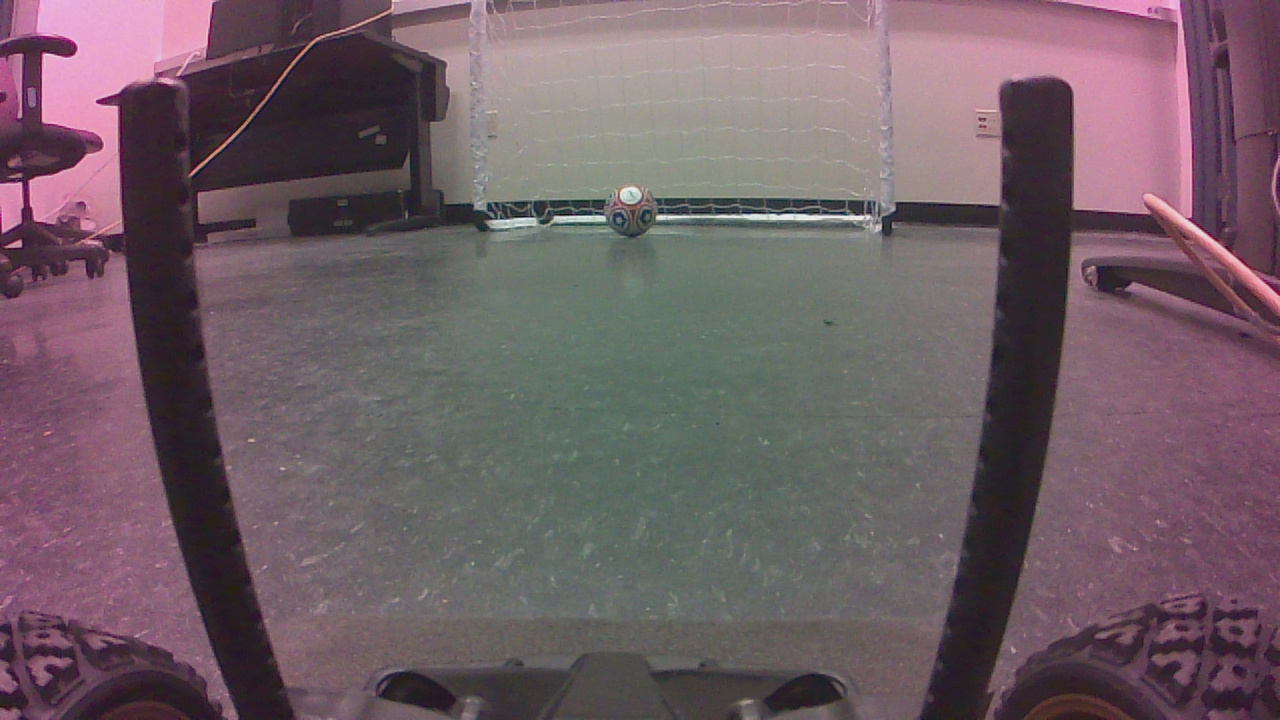ball: (608, 189, 665, 244)
goal: (477, 1, 908, 244)
